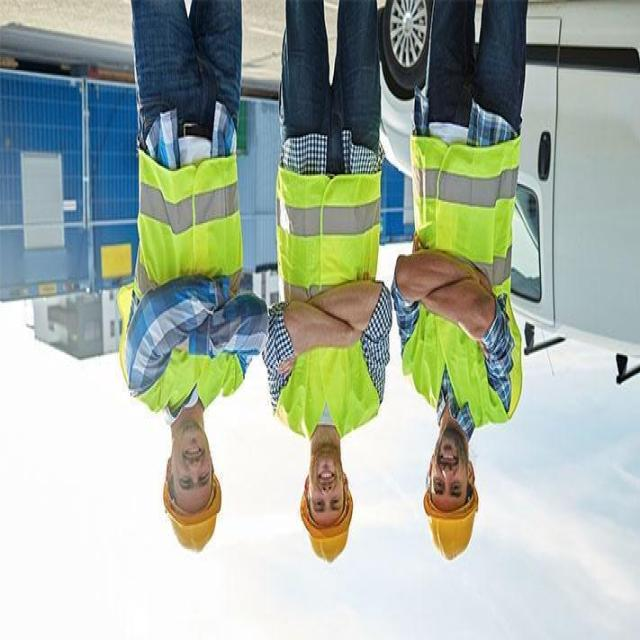helmet: (154, 467, 224, 553), (421, 486, 484, 572), (297, 484, 359, 564)
jacket: (396, 136, 528, 432), (114, 146, 254, 416), (270, 164, 384, 434)
